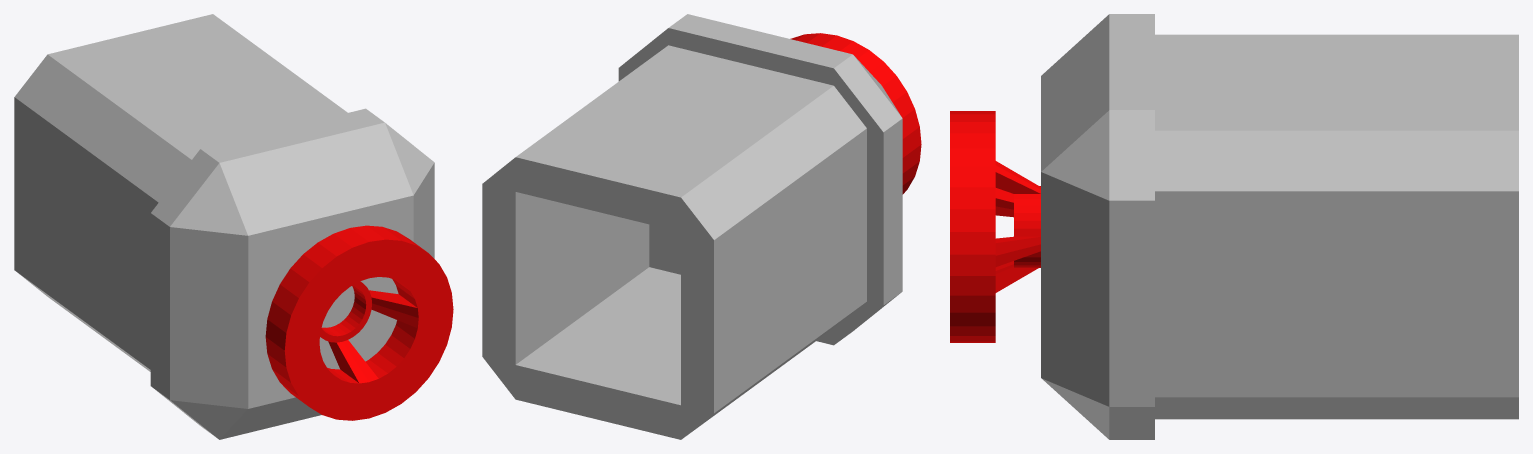
File: ventel.fbx
3 renders of one model, left to right at view 1: azimuth 30°, elevation 25°; view 2: azimuth 150°, elevation 25°; view 3: azimuth 270°, elevation 25°, orthographic. The views are drawn at different scales.
Parts seen in each view (by area): view 1: ventel; view 2: ventel; view 3: ventel.
Part boxes in pixels (x1,y1,x2,y2): ventel: (14, 14, 453, 439); ventel: (482, 14, 921, 439); ventel: (950, 14, 1518, 439).
Bounding box in the file's own units: 1600 × 1600 × 2500.
